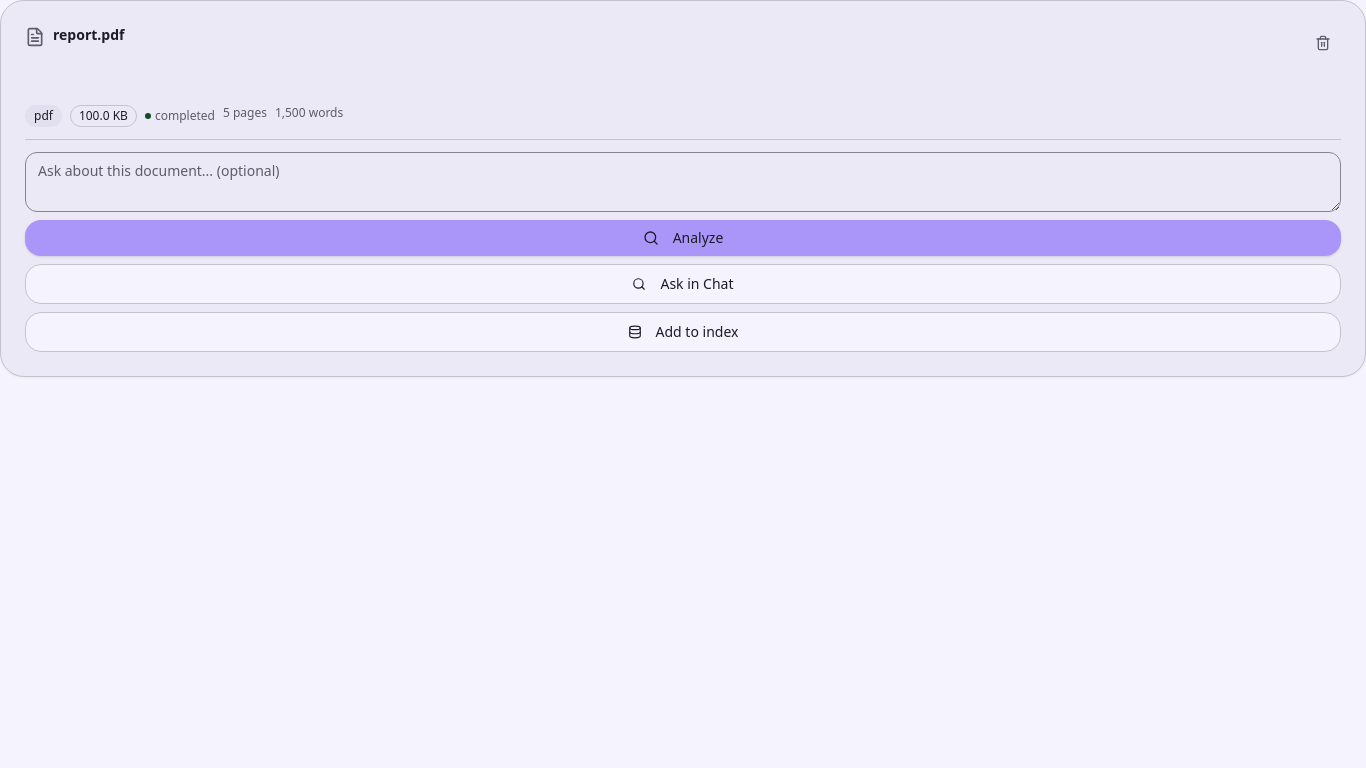
Test: DocumentViewer › displays the answer to a document question separately from extracted text
The width and height of the screenshot is (1366, 768).
Step 1. Type "What was revenue?" into the text box named "Question about" → (683, 182), box [25,152,1341,212]
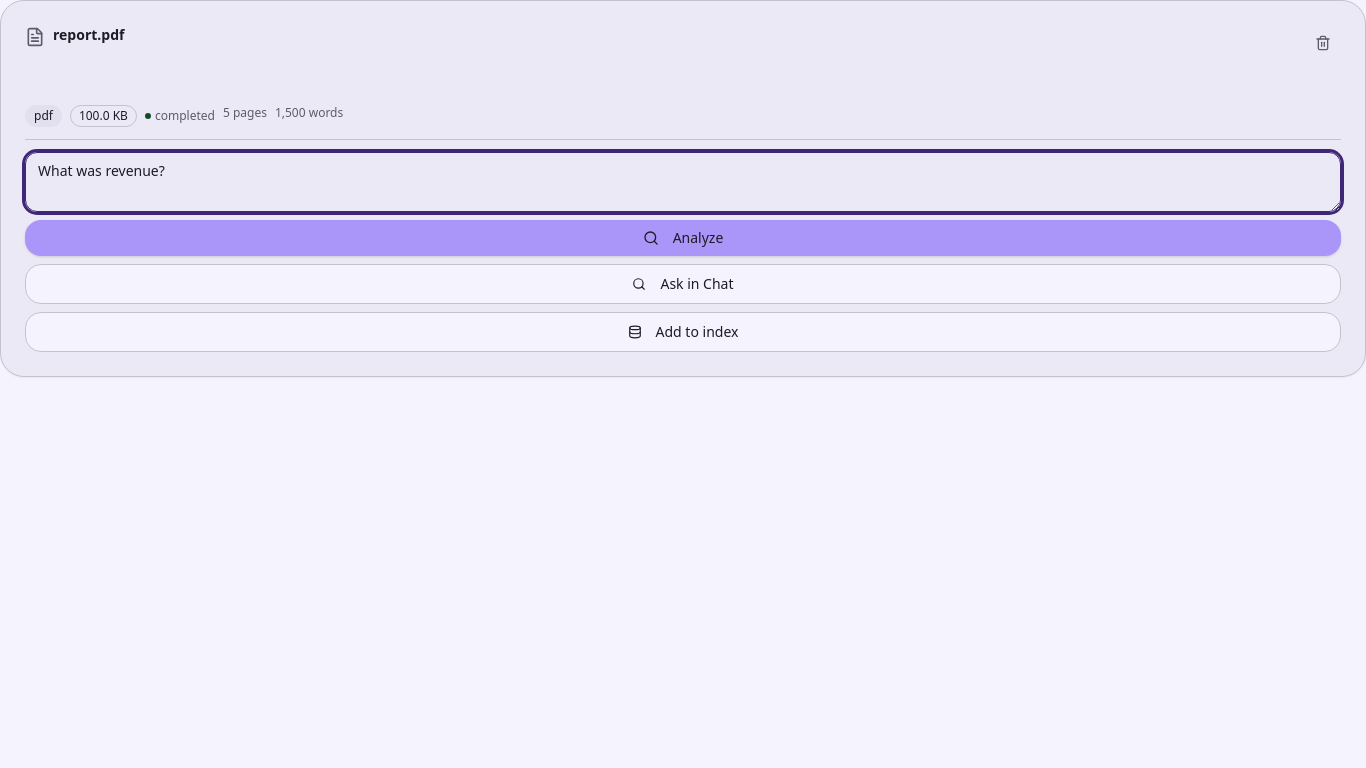
Step 2. Click the button "Analyze" → (683, 238), box [25,220,1341,256]
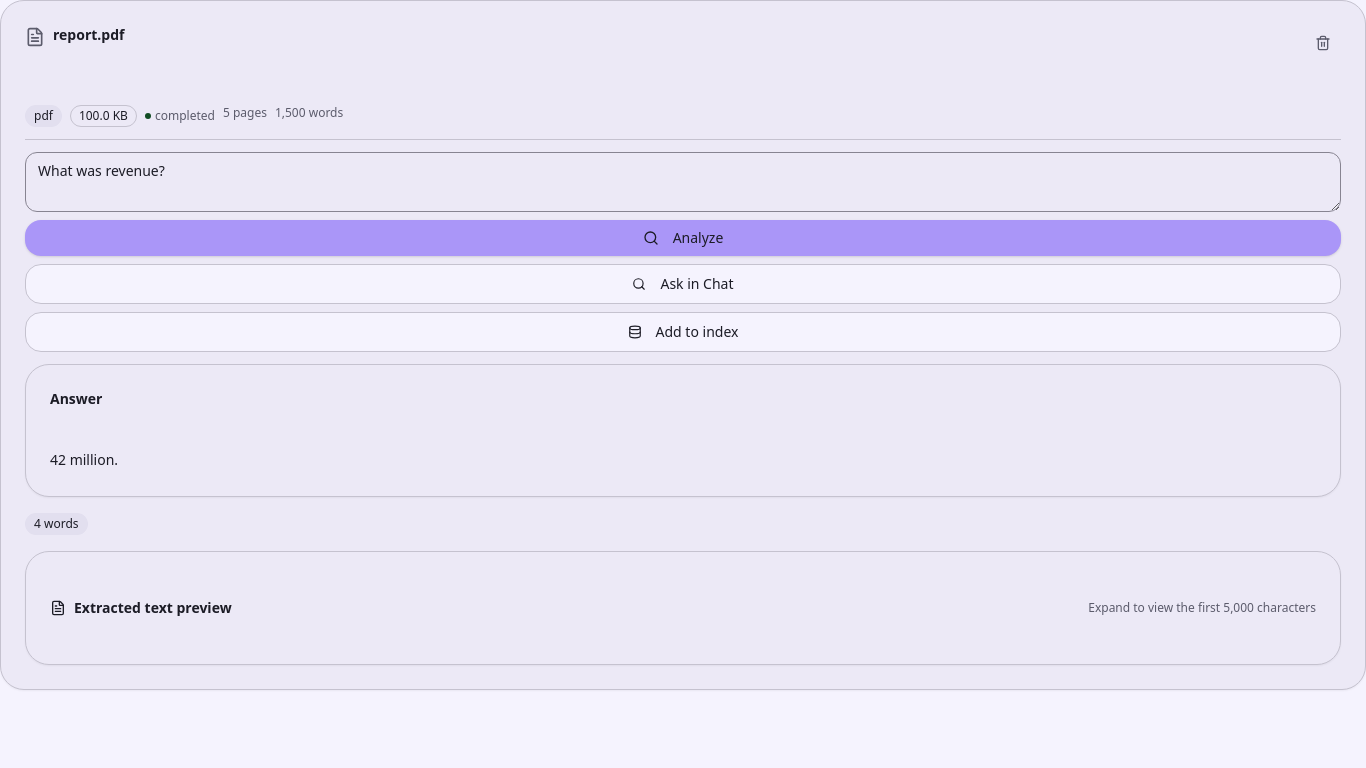
Now the text "42 million." is shown, box [50,450,118,469]
